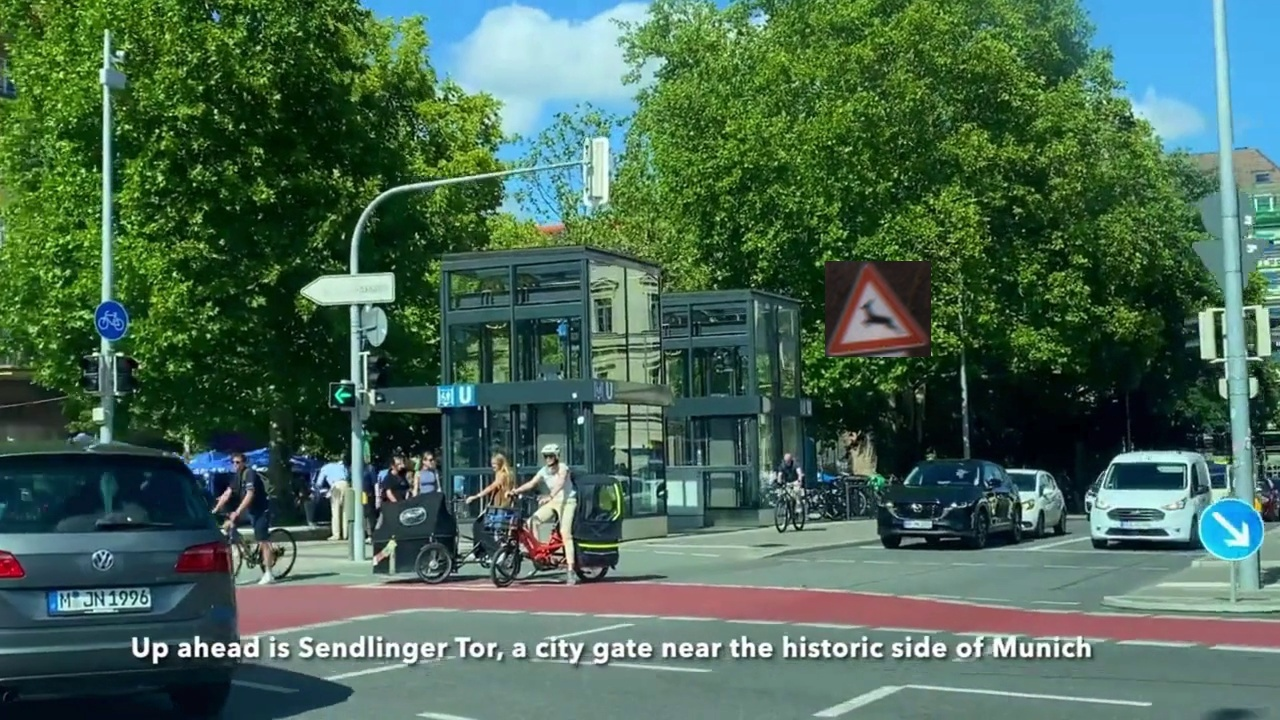Wild animals: (825, 261, 931, 357)
